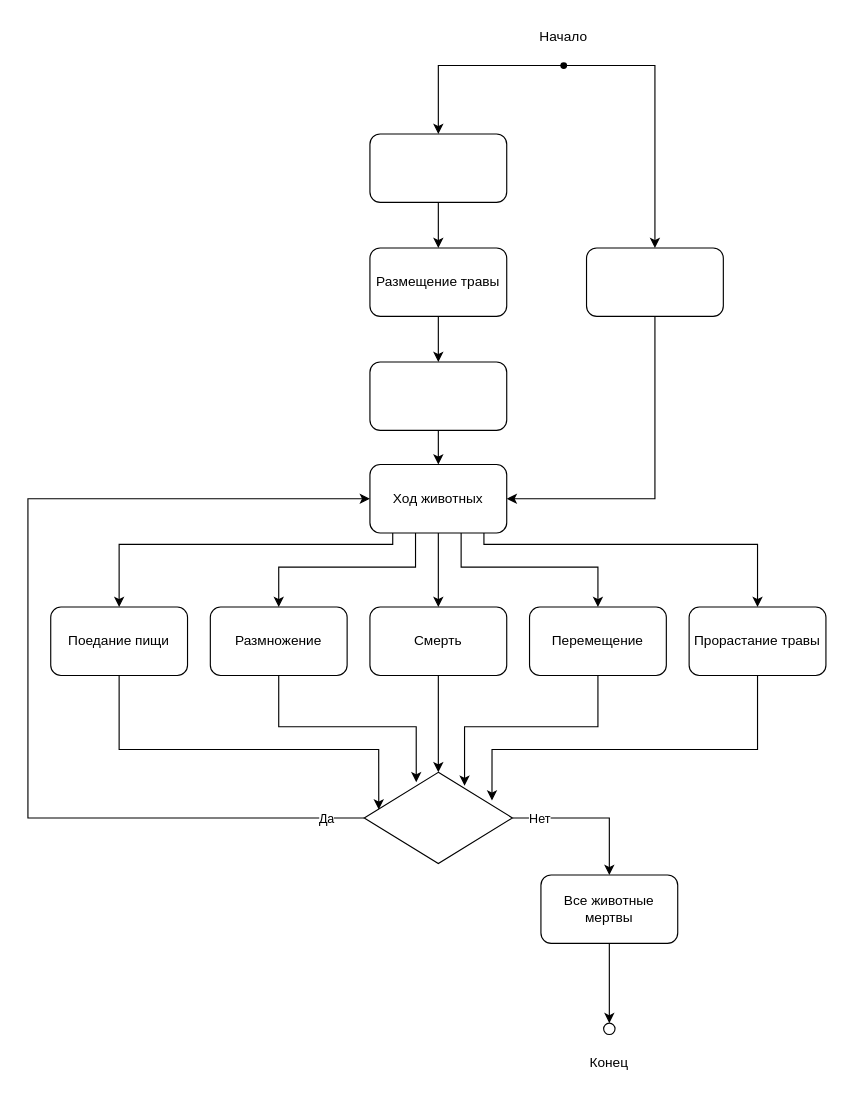
This 846x1099 diagram has some shape labels left out. Here are the shapes that lost their labels. From the top down, the box of each, then its label:
(369, 133, 507, 202): Создание животных
(585, 247, 723, 316): Загрузка состояния симуляции из файла
(369, 361, 507, 430): Размещение животных
(363, 771, 512, 864): Остались ли животные?
